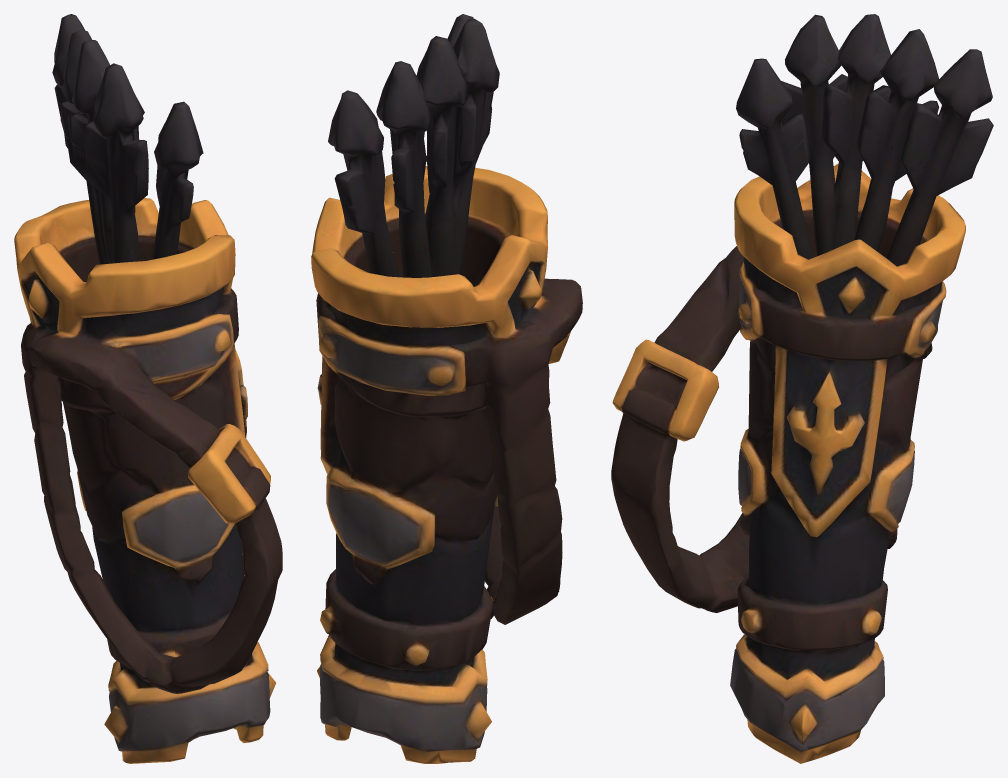
The model's file is Arm_guard_quiver-HGrvDVjY.glb.
The picture shows the model from 3 angles, left to right: view 1: azimuth 30°, elevation 25°; view 2: azimuth 150°, elevation 25°; view 3: azimuth 270°, elevation 25°; orthographic projection. The views are drawn at different scales.
Visible parts, largest first — view 1: Arm_guard_quiver; view 2: Arm_guard_quiver; view 3: Arm_guard_quiver.
Part boxes in pixels (x1,y1,x2,y2): Arm_guard_quiver: [14, 14, 282, 763]; Arm_guard_quiver: [311, 14, 582, 763]; Arm_guard_quiver: [611, 14, 993, 763].
Size of the model in its own units: 0.2831 by 0.8 by 0.4038.
1 material, 1 textured.
